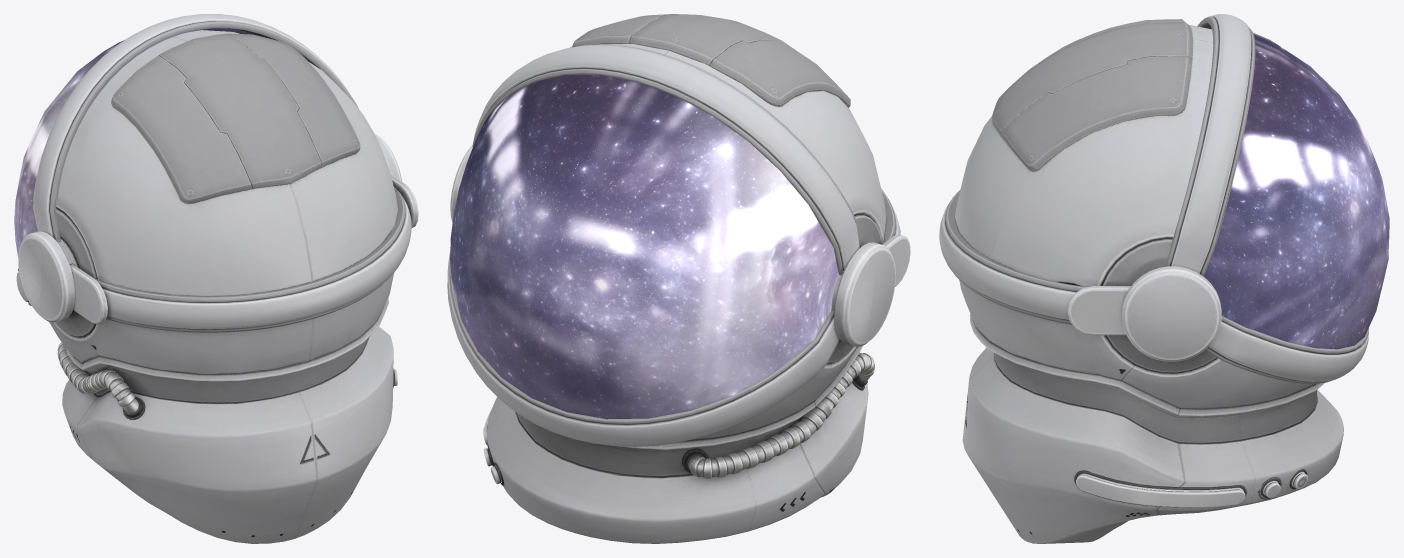
The model's file is helmet-transformed.glb.
3 views of the same model, side by side, from view 1: azimuth 30°, elevation 25°; view 2: azimuth 150°, elevation 25°; view 3: azimuth 270°, elevation 25° (orthographic). The views are drawn at different scales.
Visible parts, largest first — view 1: Material3-material, Material1-material, Material0-material; view 2: Material0-material, Material3-material, Material1-material; view 3: Material3-material, Material1-material, Material0-material.
Part boxes in pixels (x1,y1,x2,y2): Material3-material: (18, 30, 418, 543); Material1-material: (16, 14, 411, 419); Material0-material: (14, 28, 249, 263); Material0-material: (450, 75, 838, 419); Material3-material: (450, 43, 910, 543); Material1-material: (447, 14, 900, 485); Material3-material: (955, 25, 1343, 543); Material1-material: (939, 14, 1368, 507); Material0-material: (1203, 33, 1389, 349).
Size of what is drawn, in the model's own units: 0.2449 by 0.3055 by 0.2544.
Materials: 4 (3 with a texture image).
